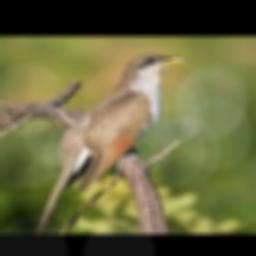Cuckoo: (34, 54, 189, 234)
